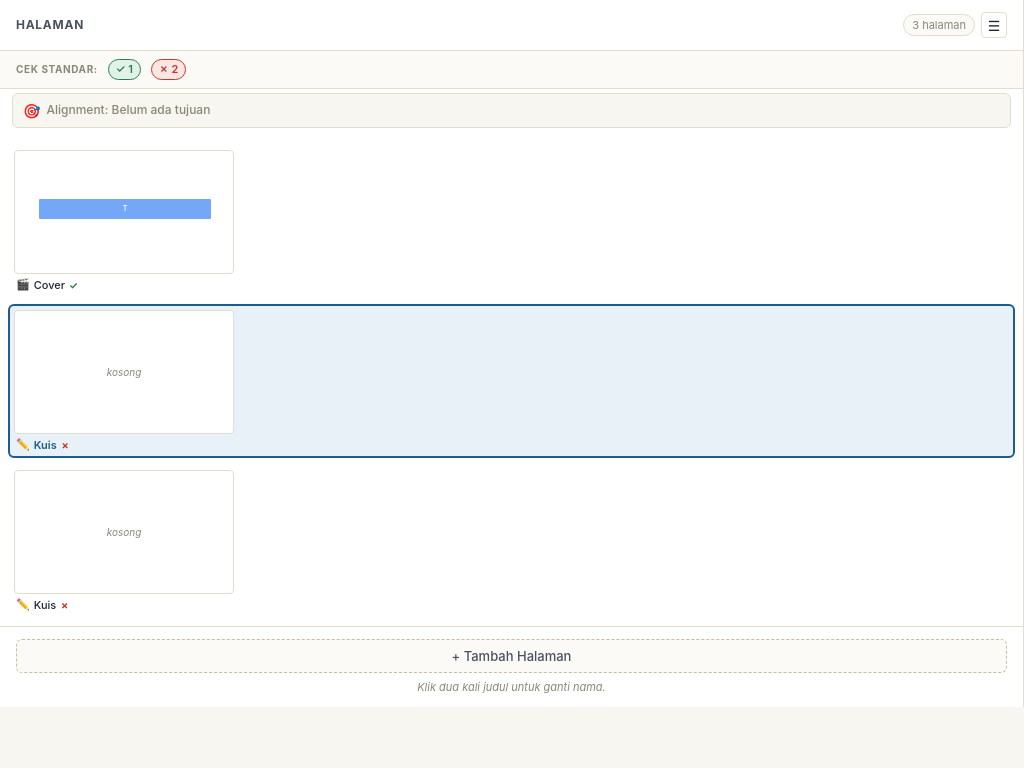
Test: UX-01 Patch-2 — Scope C: UX-02 minor polish › inline issue list default expanded ONLY for active page (not all pages with issues)
Click the button with test id "page-panel-view-toggle" at (994, 25), box [981,12,1007,38]
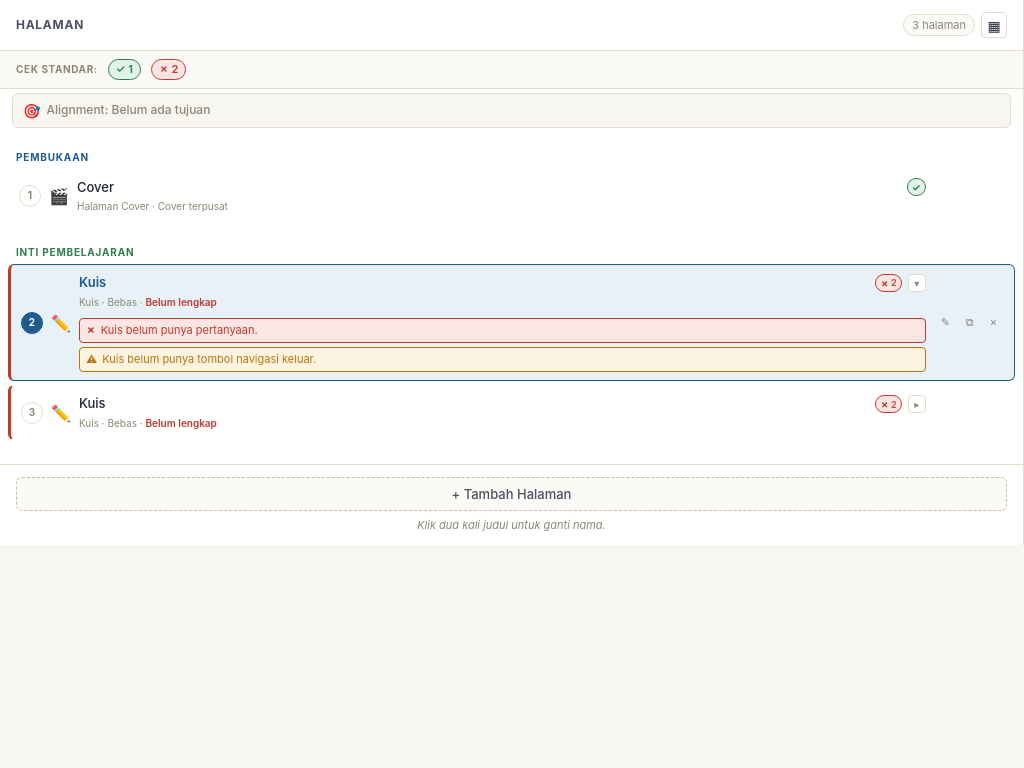
Result: the element that starts with "Kuis" is shown at [8,264,1015,381]
Result: the list is shown at [79,318,926,372]
Result: the element showing "3 ✏️ Kuis ✗ 2 ▸ Kuis · Bebas · Belum lengkap" is shown at [8,385,1015,440]
